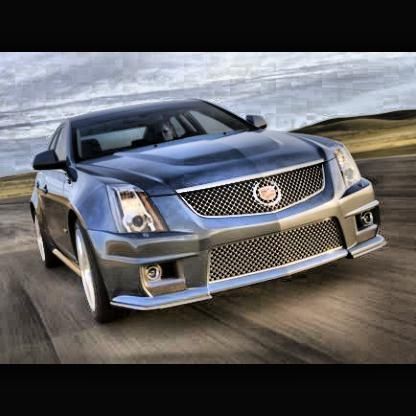Cadillac CTS-V Sedan 2012: (30, 98, 388, 317)
